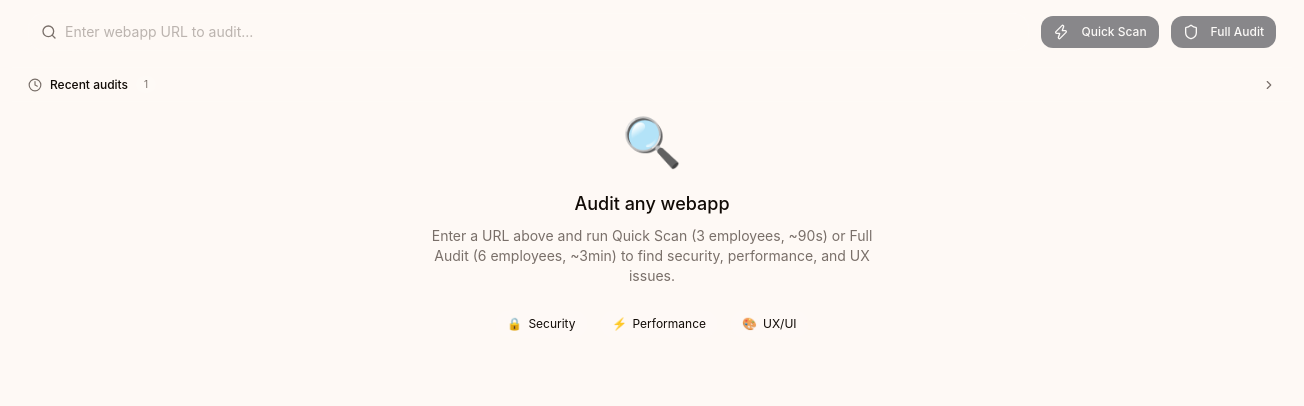
Test: AuditPanel — history / report / share / export › loads and expands recent audits
The image size is (1304, 406).
Step 1. Click the text "Recent audits" → (89, 85), box [50,77,128,93]
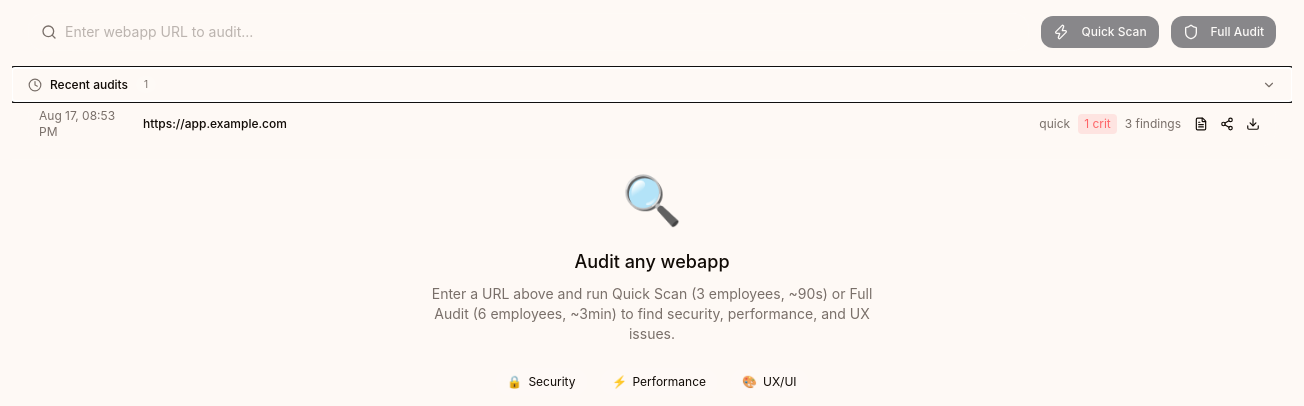
Now the text "https://app.example.com" is shown, box [143,116,287,131]
Now the text "3 findings" is shown, box [1125,116,1181,132]
Now the text "1 crit" is shown, box [1078,114,1117,134]
